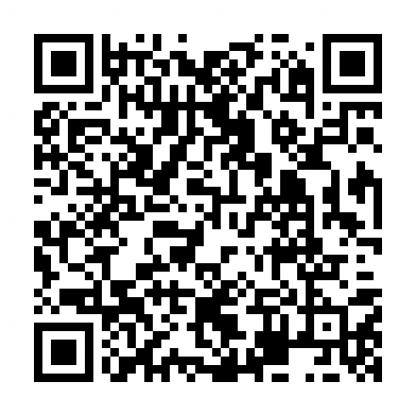qr: (29, 30, 388, 388)
